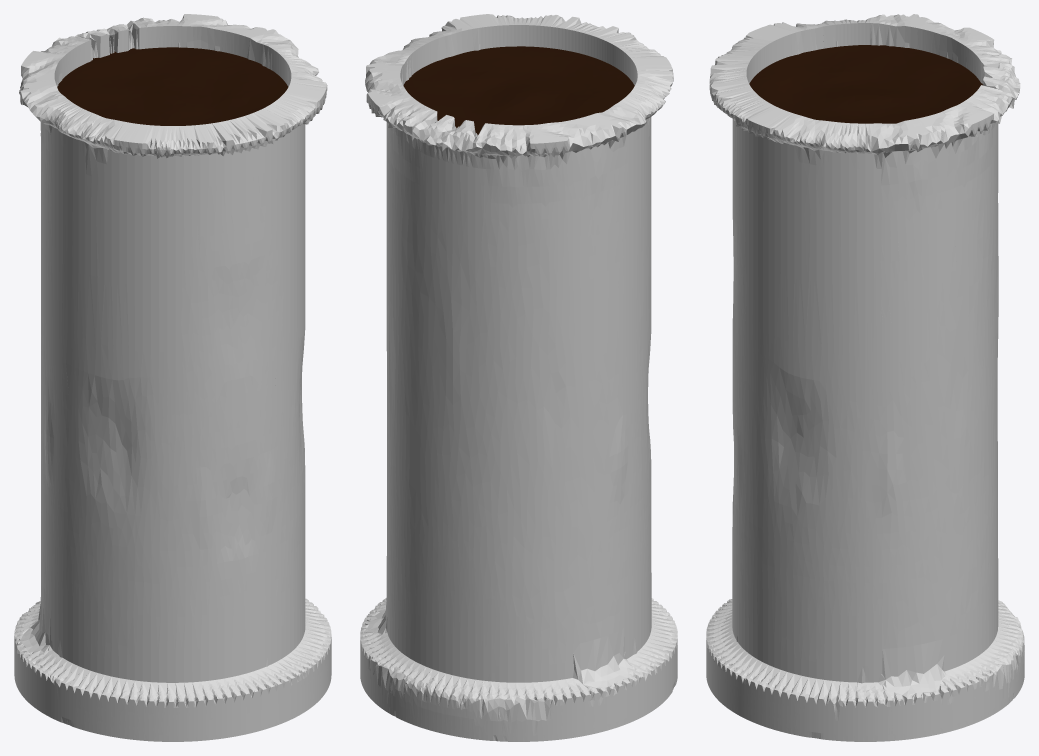
Rendered from TorchPillarThing.fbx.
3 views of the same model, side by side, from view 1: azimuth 30°, elevation 25°; view 2: azimuth 150°, elevation 25°; view 3: azimuth 270°, elevation 25° (orthographic).
Parts seen in each view (by area): view 1: Cylinder, Cylinder.001; view 2: Cylinder, Cylinder.001; view 3: Cylinder, Cylinder.001.
Part boxes in pixels (bbox=[...]): Cylinder: bbox=[14, 14, 331, 741]; Cylinder.001: bbox=[57, 47, 288, 125]; Cylinder: bbox=[360, 14, 677, 741]; Cylinder.001: bbox=[403, 46, 634, 134]; Cylinder: bbox=[706, 14, 1024, 741]; Cylinder.001: bbox=[749, 45, 983, 123].
Bounding box in the file's own units: 240 × 501 × 240.
